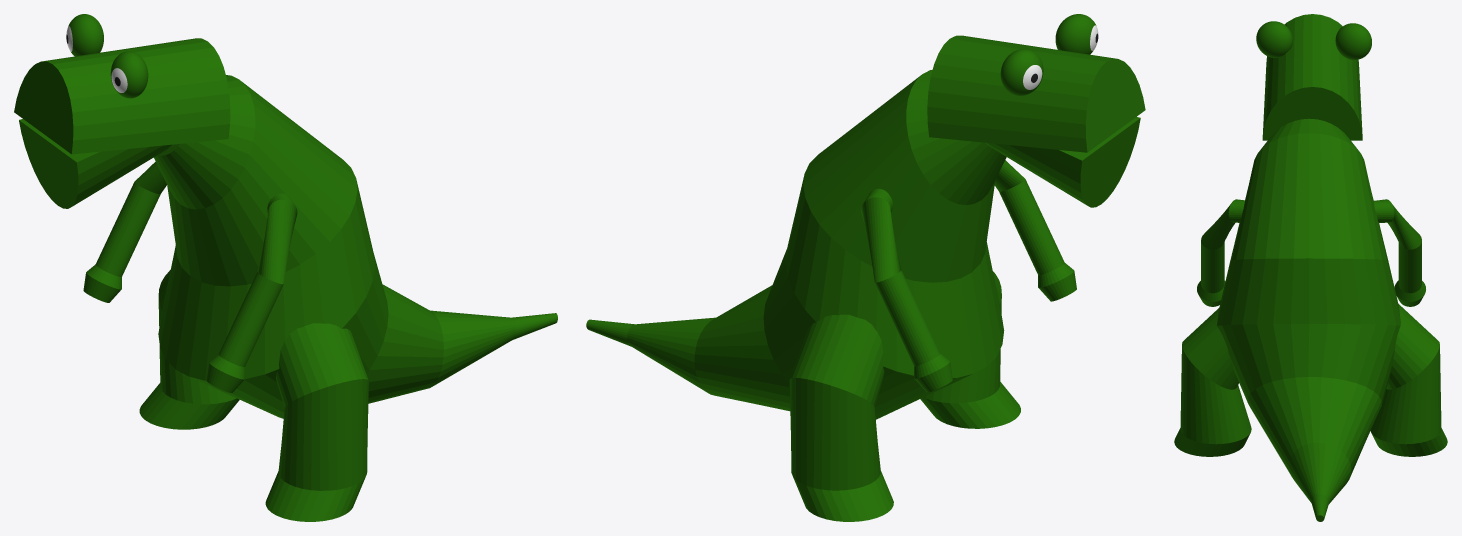
Rendered from dino.fbx.
3 renders of one model, left to right at view 1: azimuth 30°, elevation 25°; view 2: azimuth 150°, elevation 25°; view 3: azimuth 270°, elevation 25°, orthographic. The views are drawn at different scales.
Visible parts, largest first — view 1: Body, UpperJaw, LeftLeg, Arms, LowerJaw, RightLeg, Sphere; view 2: Body, UpperJaw, RightLeg, Arms, LowerJaw, LeftLeg, Sphere; view 3: Body, UpperJaw, LeftLeg, RightLeg, Arms, Sphere.
Part boxes in pixels (x1,y1,x2,y2): Body: [154, 75, 557, 418]; UpperJaw: [14, 38, 230, 154]; LeftLeg: [265, 323, 368, 521]; Arms: [83, 161, 297, 392]; LowerJaw: [19, 119, 171, 208]; RightLeg: [139, 270, 239, 429]; Sphere: [66, 14, 148, 98]; Body: [586, 70, 1006, 419]; UpperJaw: [927, 35, 1145, 152]; RightLeg: [789, 314, 893, 521]; Arms: [861, 160, 1076, 392]; LowerJaw: [986, 117, 1140, 207]; LeftLeg: [920, 271, 1020, 428]; Sphere: [1000, 14, 1098, 95]; Body: [1217, 118, 1400, 521]; UpperJaw: [1262, 14, 1362, 140]; LeftLeg: [1174, 308, 1251, 456]; RightLeg: [1370, 304, 1447, 456]; Arms: [1197, 199, 1425, 306]; Sphere: [1256, 21, 1371, 59].
Bounding box in the file's own units: 1037 × 868 × 590.
